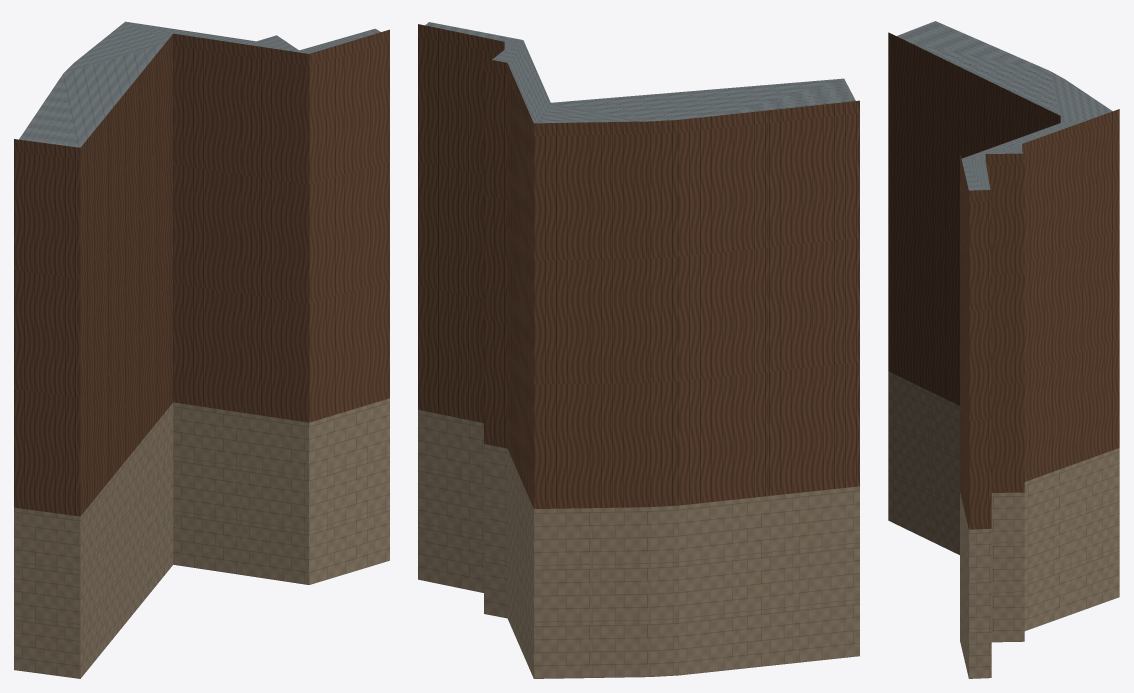
Rendered from bld_c3_-3_561.gltf.
3 views of the same model, side by side, from view 1: azimuth 30°, elevation 25°; view 2: azimuth 150°, elevation 25°; view 3: azimuth 270°, elevation 25° (orthographic). The views are drawn at different scales.
Parts seen in each view (by area): view 1: bld_c3_-3_561; view 2: bld_c3_-3_561; view 3: bld_c3_-3_561.
Boxes of the visible parts, x1,y1,x2,y2 form: bld_c3_-3_561: (14,21,389,678); bld_c3_-3_561: (418,22,859,678); bld_c3_-3_561: (888,21,1119,678).
Bounding box in the file's own units: 12.95 × 16.68 × 7.17.
4 materials, 4 textured.
